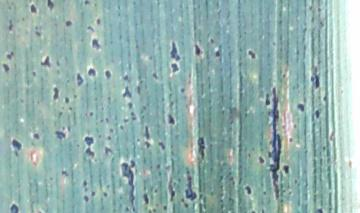tarspot: (264, 84, 282, 199), (116, 157, 138, 211), (182, 166, 199, 201), (168, 39, 184, 62), (309, 68, 322, 92), (196, 134, 206, 161), (191, 40, 203, 61), (40, 54, 52, 72), (120, 85, 134, 100), (73, 72, 86, 88), (166, 179, 176, 199), (244, 47, 258, 61), (241, 183, 254, 198), (52, 129, 68, 141), (102, 66, 114, 81), (90, 37, 102, 52), (82, 147, 97, 159), (30, 130, 43, 143), (26, 3, 39, 16), (10, 138, 23, 151), (86, 65, 98, 79), (8, 201, 21, 213), (43, 1, 57, 12), (50, 86, 61, 100), (165, 112, 176, 126), (169, 62, 180, 76), (143, 124, 152, 141), (83, 136, 96, 147), (142, 191, 150, 208), (102, 145, 114, 156), (280, 163, 292, 174), (121, 72, 132, 84), (1, 61, 11, 74), (312, 108, 322, 121), (126, 99, 136, 112), (296, 100, 305, 114), (150, 70, 160, 82), (29, 68, 39, 80), (64, 16, 73, 29), (256, 153, 265, 166), (157, 139, 166, 152), (179, 84, 187, 98), (7, 20, 15, 34), (93, 16, 103, 27), (55, 108, 65, 119), (153, 162, 164, 172), (82, 193, 91, 205), (5, 49, 15, 59), (61, 95, 71, 105), (59, 168, 69, 178), (142, 140, 152, 150), (101, 190, 111, 200), (33, 29, 43, 39), (129, 111, 137, 123), (286, 135, 294, 147), (135, 84, 143, 96), (214, 48, 221, 61), (104, 133, 113, 143), (80, 177, 88, 188), (118, 122, 126, 133), (161, 201, 168, 213), (104, 115, 111, 127), (182, 201, 190, 210), (86, 110, 95, 118), (320, 144, 329, 152), (315, 206, 325, 213), (81, 1, 91, 8), (151, 207, 159, 213)
